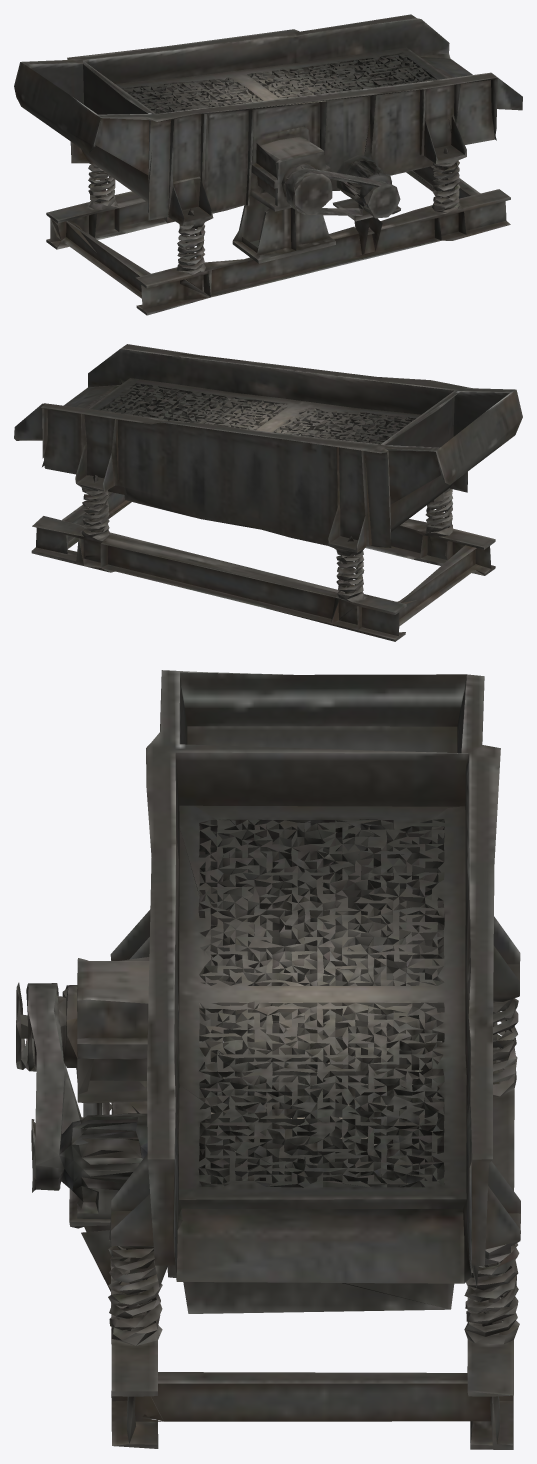
The model's file is siebhaus_vibrating_screen.glb.
The picture shows the model from 3 angles, top to bottom: view 1: azimuth 30°, elevation 25°; view 2: azimuth 150°, elevation 25°; view 3: azimuth 270°, elevation 25°; orthographic projection. The views are drawn at different scales.
Visible parts, largest first — view 1: main; view 2: main; view 3: main.
Part boxes in pixels (bbox=[...]): main: bbox=[14, 14, 522, 315]; main: bbox=[14, 344, 522, 641]; main: bbox=[16, 670, 520, 1449].
Size of the model in its own units: 3.69 by 1.6 by 1.87.
Materials: 1 (1 with a texture image).
